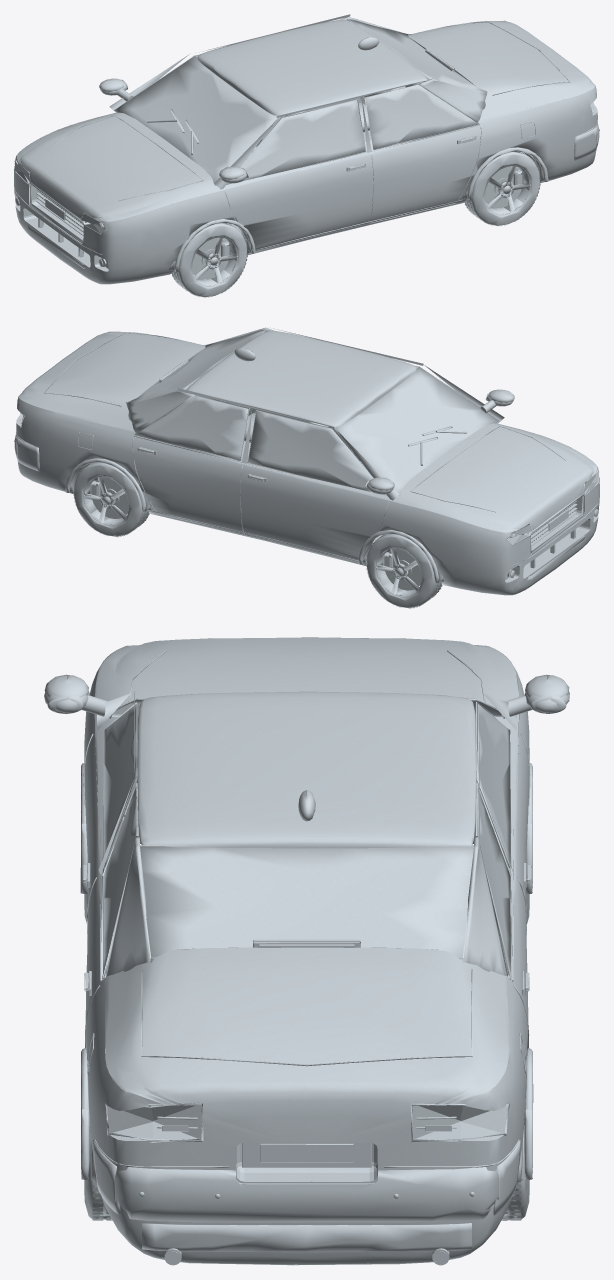
File: sedan.fbx
3 renders of one model, top to bottom at view 1: azimuth 30°, elevation 25°; view 2: azimuth 150°, elevation 25°; view 3: azimuth 270°, elevation 25°, orthographic. The views are drawn at different scales.
Parts seen in each view (by area): view 1: Watertight 14-station body shell, Crowned roof pressing, Raked laminated windshield, Front side door glass, Rear side door glass, 107 reused Sculpted_tyre, 107 reused Sculpted_tyre.002, Sloping rear glass, Surface integrated sedan rear roof pillar, 107 reused Alloy_five_spoke_rim.002, 107 reused Alloy_five_spoke_rim, Ventilated brake rotor (+6 smaller); view 2: Watertight 14-station body shell, Crowned roof pressing, Raked laminated windshield, Front side door glass.001, Rear side door glass.001, 107 reused Sculpted_tyre.001, 107 reused Sculpted_tyre.003, Sloping rear glass, Surface integrated sedan rear roof pillar.001, 107 reused Alloy_five_spoke_rim.003, 107 reused Alloy_five_spoke_rim.001, Ventilated brake rotor.003 (+5 smaller); view 3: Watertight 14-station body shell, Crowned roof pressing, Sloping rear glass, Formed painted rear bumper cover, Sculpted rear lower bumper insert, Front side door glass.001, Front side door glass, Surface integrated sedan rear roof pillar, Surface integrated sedan rear roof pillar.001, Rear side door glass, Rear side door glass.001, Flush corner wrapping ruby lamp lens.001 (+10 smaller).
Boxes of the visible parts, box(x1,y1,x2,y2) form: Watertight 14-station body shell: box(14, 20, 597, 284); Crowned roof pressing: box(197, 19, 427, 115); Raked laminated windshield: box(114, 56, 278, 184); Front side door glass: box(226, 100, 365, 184); Rear side door glass: box(365, 84, 478, 149); 107 reused Sculpted_tyre: box(172, 223, 247, 297); 107 reused Sculpted_tyre.002: box(465, 151, 539, 225); Sloping rear glass: box(347, 19, 484, 90); Surface integrated sedan rear roof pillar: box(418, 78, 487, 122); 107 reused Alloy_five_spoke_rim.002: box(484, 165, 530, 215); 107 reused Alloy_five_spoke_rim: box(191, 236, 237, 286); Ventilated brake rotor: box(192, 237, 228, 279); Watertight 14-station body shell: box(16, 331, 599, 595); Crowned roof pressing: box(187, 330, 416, 427); Raked laminated windshield: box(334, 366, 499, 495); Front side door glass.001: box(248, 411, 387, 495); Rear side door glass.001: box(135, 396, 248, 460); 107 reused Sculpted_tyre.001: box(366, 534, 441, 608); 107 reused Sculpted_tyre.003: box(74, 462, 149, 536); Sloping rear glass: box(129, 330, 266, 401); Surface integrated sedan rear roof pillar.001: box(126, 390, 194, 433); 107 reused Alloy_five_spoke_rim.003: box(83, 476, 129, 526); 107 reused Alloy_five_spoke_rim.001: box(376, 547, 422, 597); Ventilated brake rotor.003: box(92, 477, 128, 518); Watertight 14-station body shell: box(84, 637, 529, 1265); Crowned roof pressing: box(137, 691, 476, 848); Sloping rear glass: box(140, 846, 473, 957); Formed painted rear bumper cover: box(115, 1164, 498, 1222); Sculpted rear lower bumper insert: box(142, 1223, 471, 1252); Front side door glass.001: box(475, 703, 510, 868); Front side door glass: box(103, 703, 138, 868); Surface integrated sedan rear roof pillar: box(106, 836, 150, 975); Surface integrated sedan rear roof pillar.001: box(463, 836, 507, 976); Rear side door glass: box(103, 787, 138, 977); Rear side door glass.001: box(475, 787, 510, 975); Flush corner wrapping ruby lamp lens.001: box(412, 1105, 507, 1139).
Size of the model in its own units: 4.84 by 1.55 by 2.18.
Materials: 10 (10 with a texture image).
